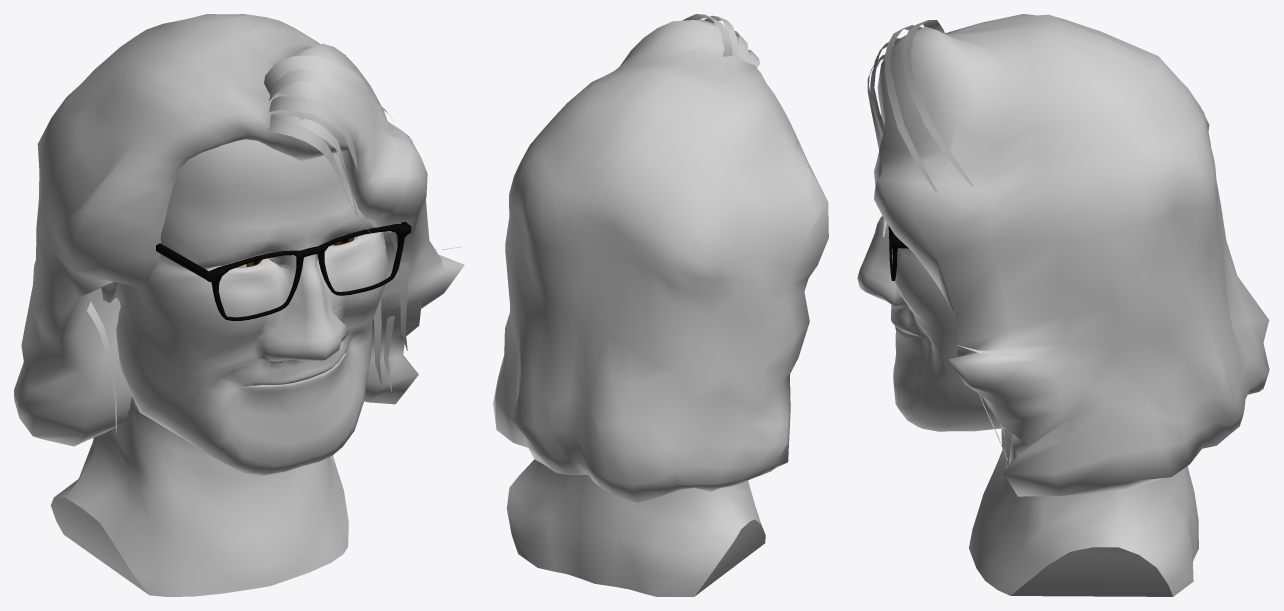
The model's file is Markiplier.obj.
3 renders of one model, left to right at view 1: azimuth 30°, elevation 25°; view 2: azimuth 150°, elevation 25°; view 3: azimuth 270°, elevation 25°, orthographic. The views are drawn at different scales.
Visible parts, largest first — view 1: Plane.003, Cube.001, Cube; view 2: Cube.001, Plane.003; view 3: Cube.001, Plane.003.
Boxes of the visible parts, <box> form: Plane.003: <box>50,139,388,596</box>; Cube.001: <box>14,14,464,446</box>; Cube: <box>156,221,411,320</box>; Cube.001: <box>493,14,828,502</box>; Plane.003: <box>506,459,765,596</box>; Cube.001: <box>867,14,1269,496</box>; Plane.003: <box>857,216,1198,596</box>.
Bounding box in the file's own units: 0.4006 × 0.5715 × 0.4022.
